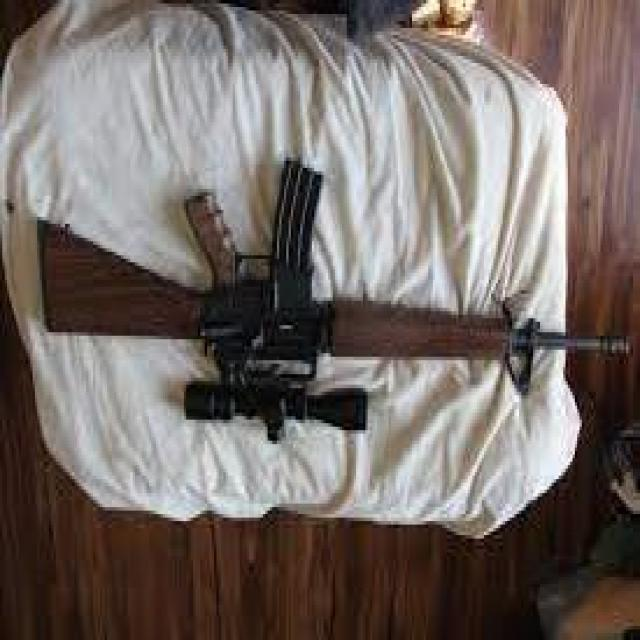weapon: (36, 156, 632, 446)
